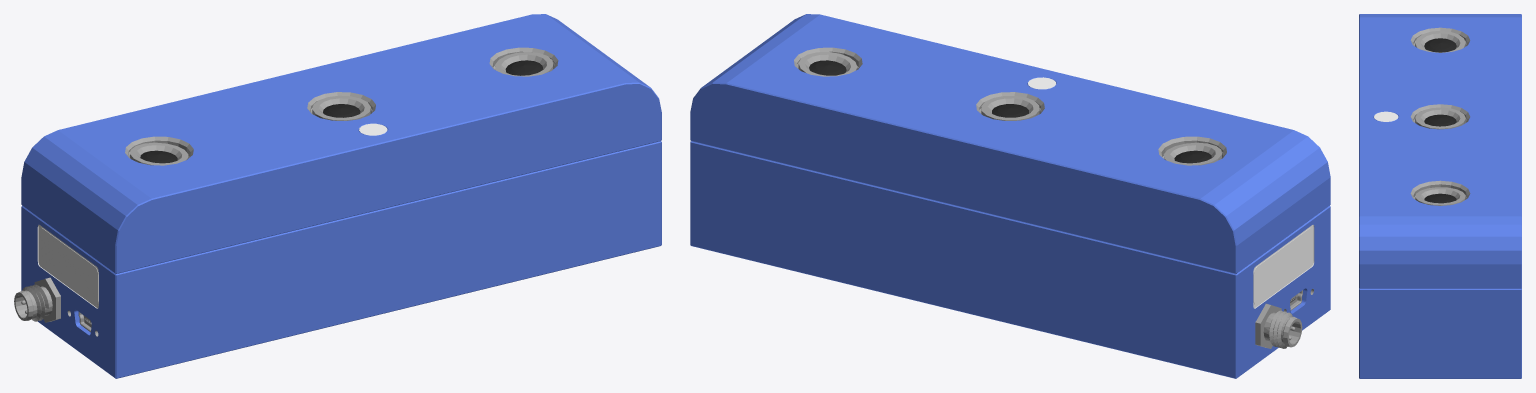
The model's file is ensenso.dae.
3 views of the same model, side by side, from view 1: azimuth 30°, elevation 25°; view 2: azimuth 150°, elevation 25°; view 3: azimuth 270°, elevation 25° (orthographic). The views are drawn at different scales.
Parts seen in each view (by area): view 1: ensenso_n10; view 2: ensenso_n10; view 3: ensenso_n10.
Part boxes in pixels (box(x1,y1,x2,y2)): ensenso_n10: box(14, 14, 661, 378); ensenso_n10: box(690, 14, 1330, 378); ensenso_n10: box(1359, 14, 1521, 378).
Size of the model in its own units: 0.1579 by 0.045 by 0.045.
